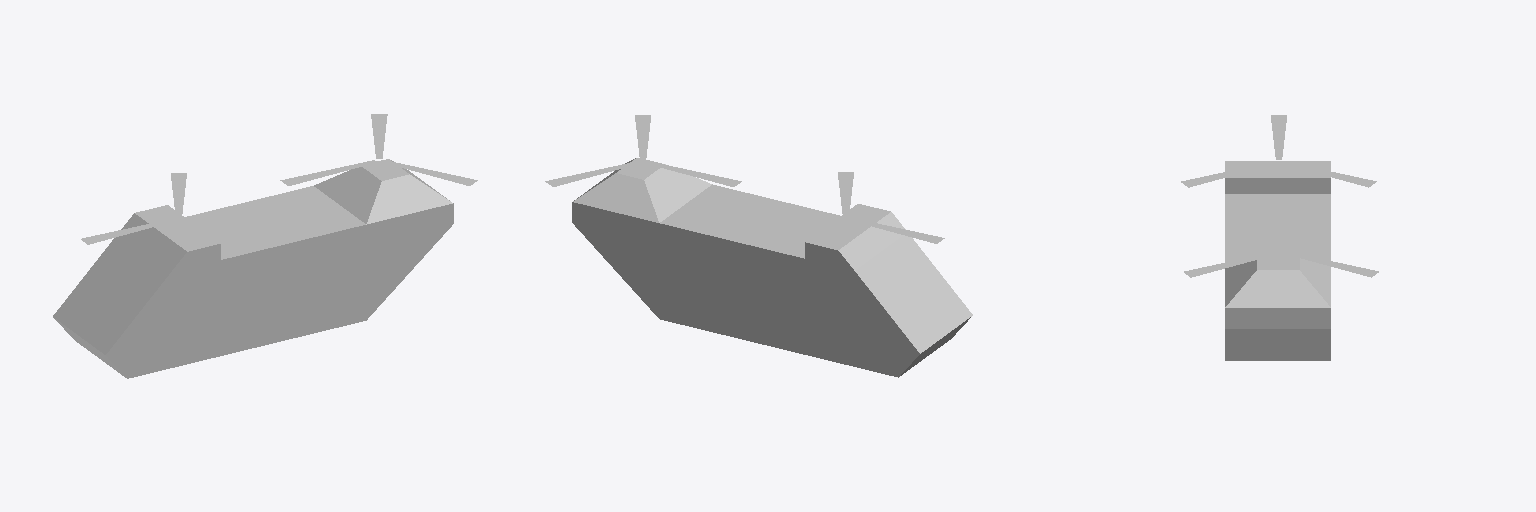
The model's file is enigma_helicopter.obj.
3 views of the same model, side by side, from view 1: azimuth 30°, elevation 25°; view 2: azimuth 150°, elevation 25°; view 3: azimuth 270°, elevation 25° (orthographic).
Visible parts, largest first — view 1: Cube_Cube.001, Cube.002_Cube.003, Cube.001_Cube.002; view 2: Cube_Cube.001, Cube.002_Cube.003, Cube.001_Cube.002; view 3: Cube_Cube.001, Cube.001_Cube.002, Cube.002_Cube.003.
Boxes of the visible parts, box(x1,y1,x2,y2) form: Cube_Cube.001: box(53, 159, 453, 378); Cube.002_Cube.003: box(280, 114, 477, 185); Cube.001_Cube.002: box(81, 173, 276, 244); Cube_Cube.001: box(572, 158, 972, 377); Cube.002_Cube.003: box(545, 115, 741, 186); Cube.001_Cube.002: box(748, 172, 944, 243); Cube_Cube.001: box(1225, 161, 1330, 360); Cube.001_Cube.002: box(1181, 115, 1376, 187); Cube.002_Cube.003: box(1184, 205, 1378, 277).
Bounding box in the file's own units: 7.74 × 2.7 × 3.77.